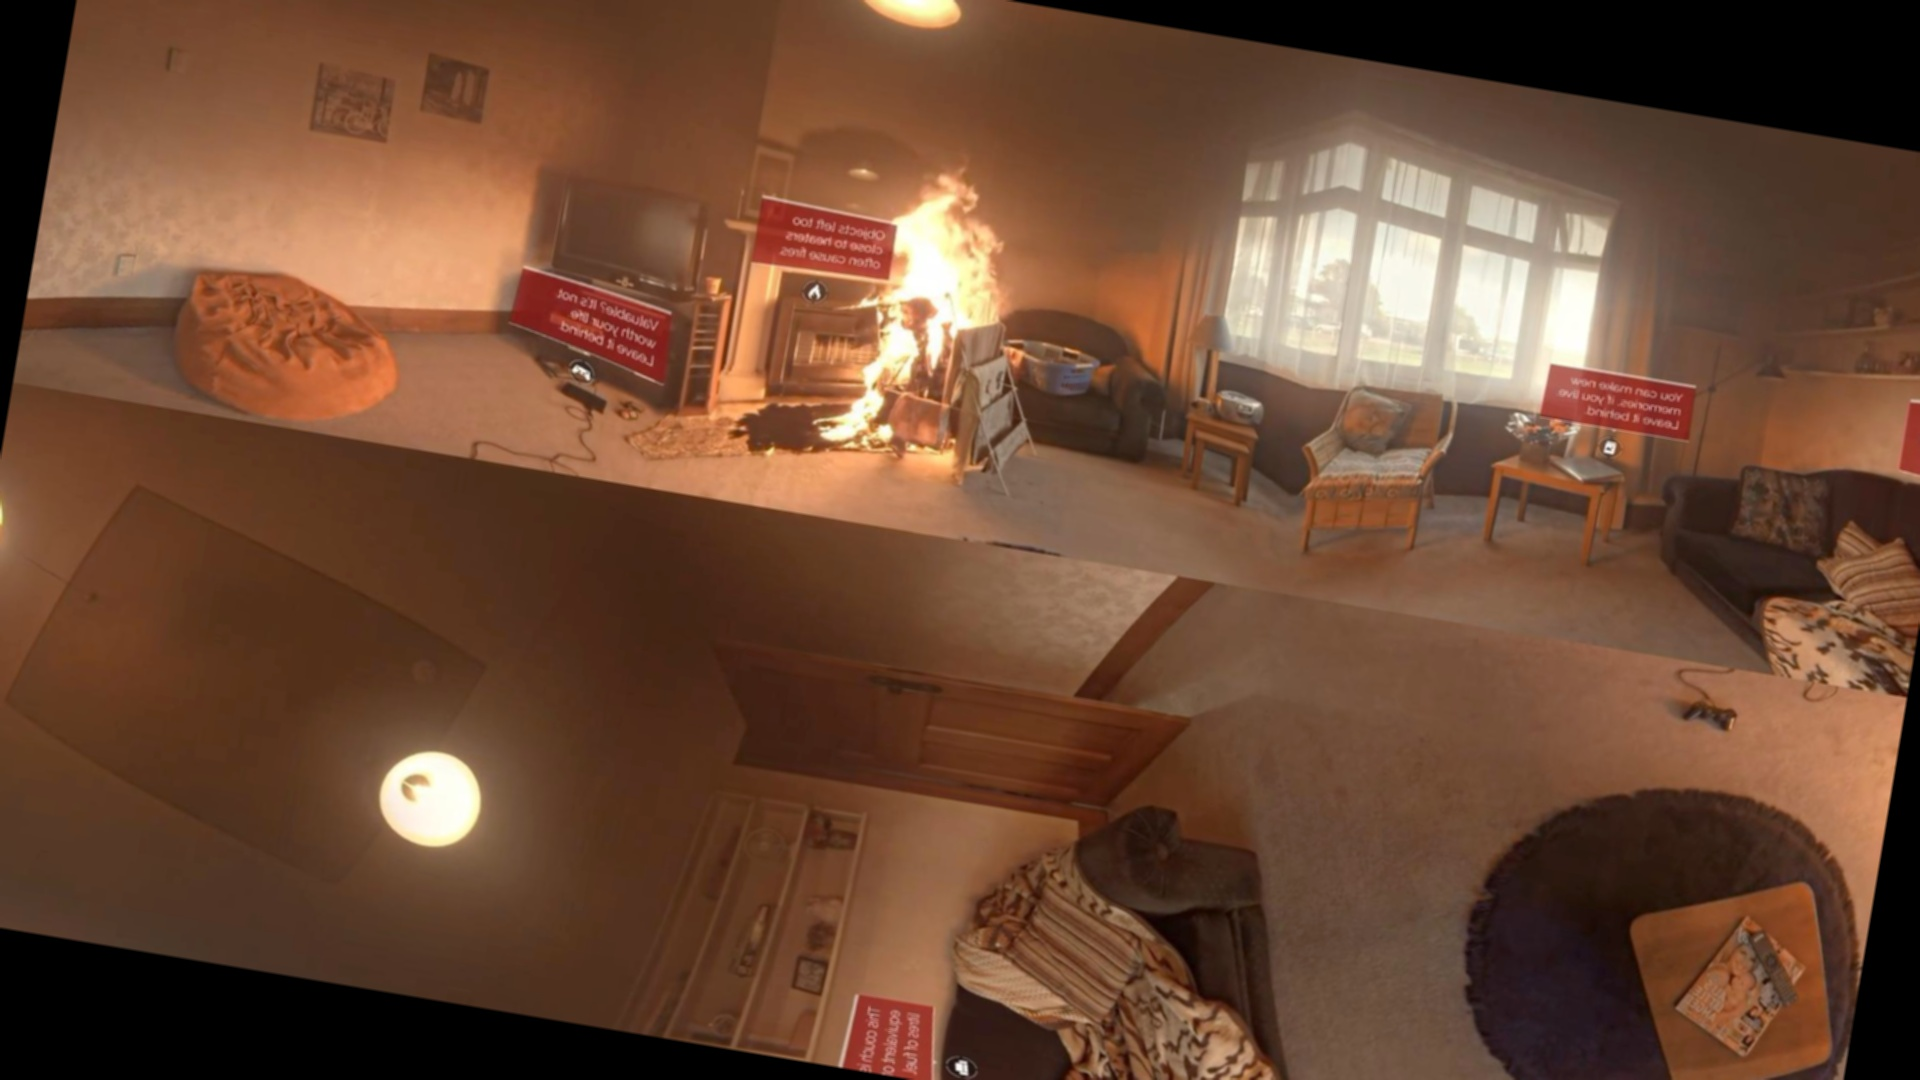fire: (781, 129, 1072, 491)
